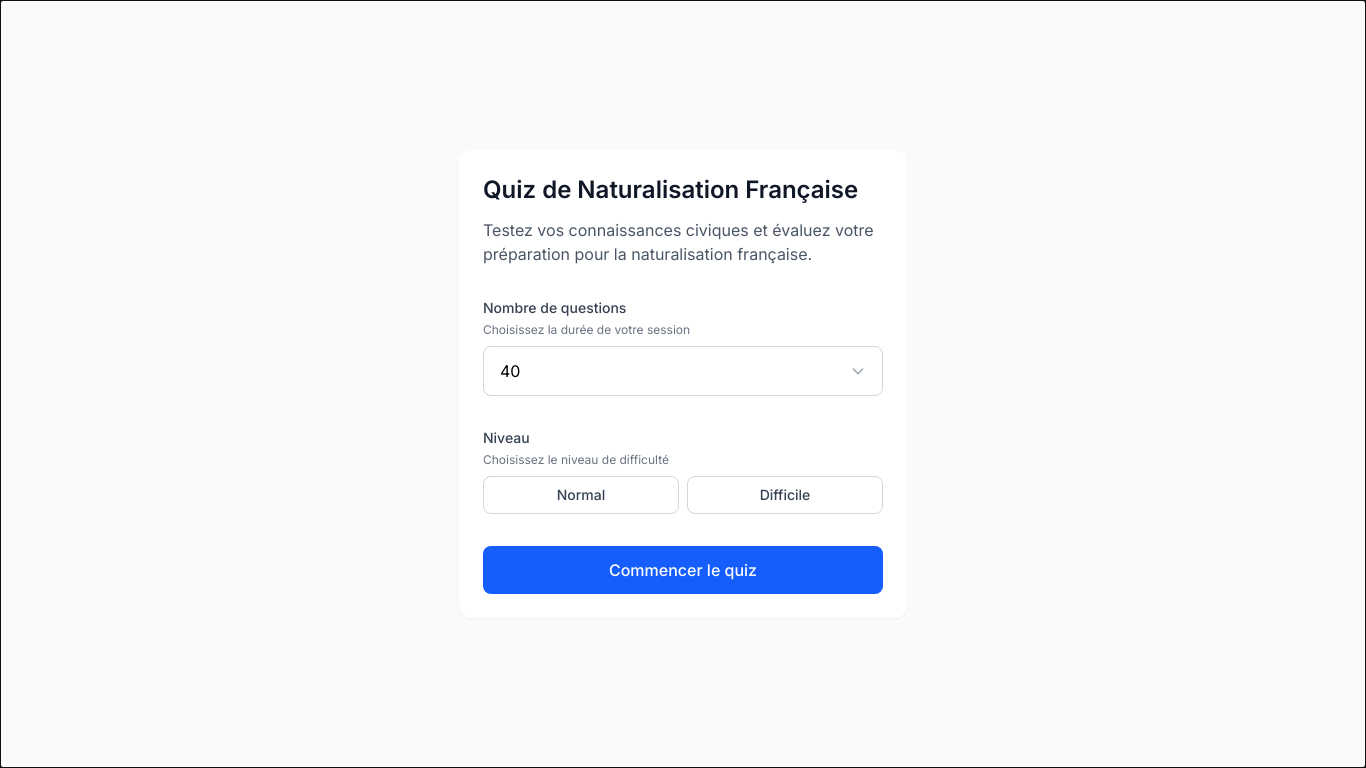
Test: QuizStartScreen › shows available question count options based on total questions
The image size is (1366, 768).
What coordinates should you click on to do the following:
click the button "40"
I would click on:
 (510, 371)
Its box is left=483, top=346, right=883, bottom=396.
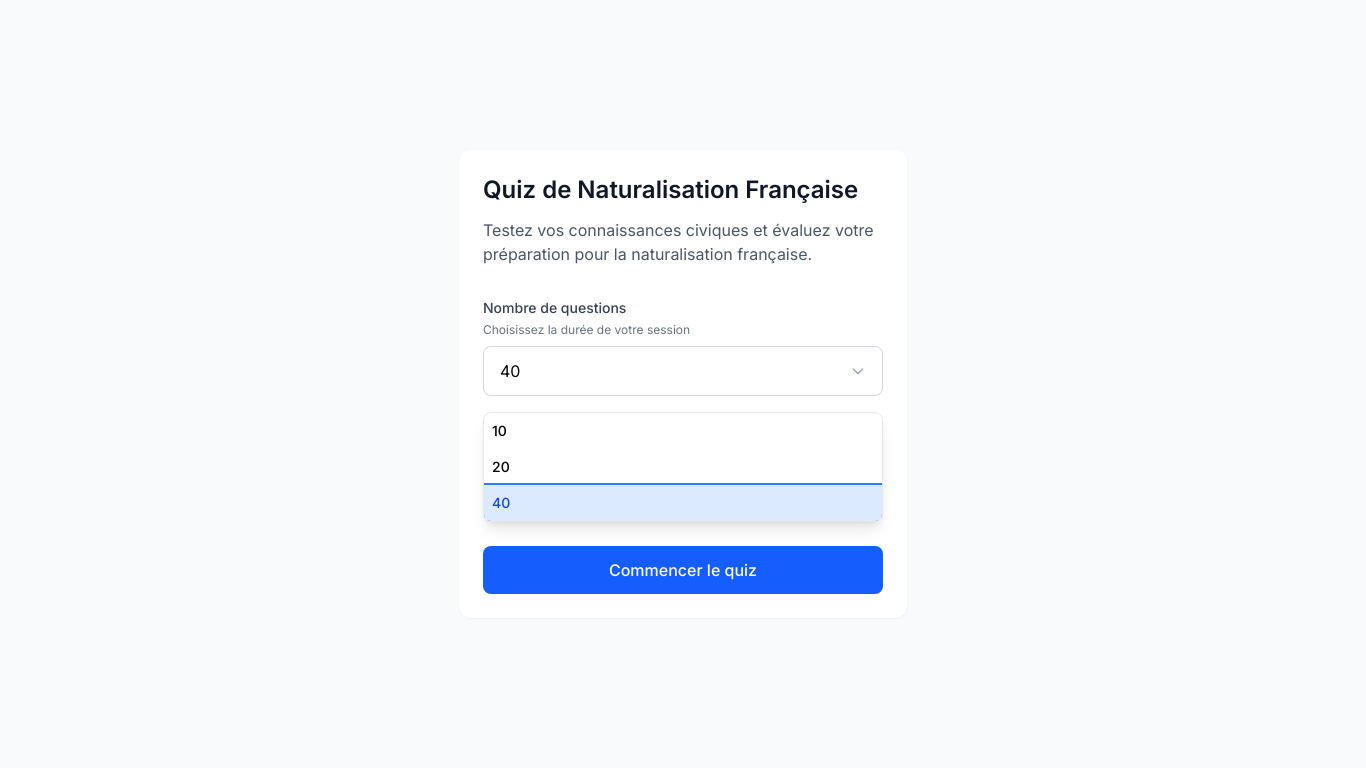
Expected: the option "10" is shown, left=492, top=422, right=507, bottom=439
Expected: the option "20" is shown, left=492, top=458, right=510, bottom=475
Expected: the option "40" is shown, left=484, top=485, right=882, bottom=521
